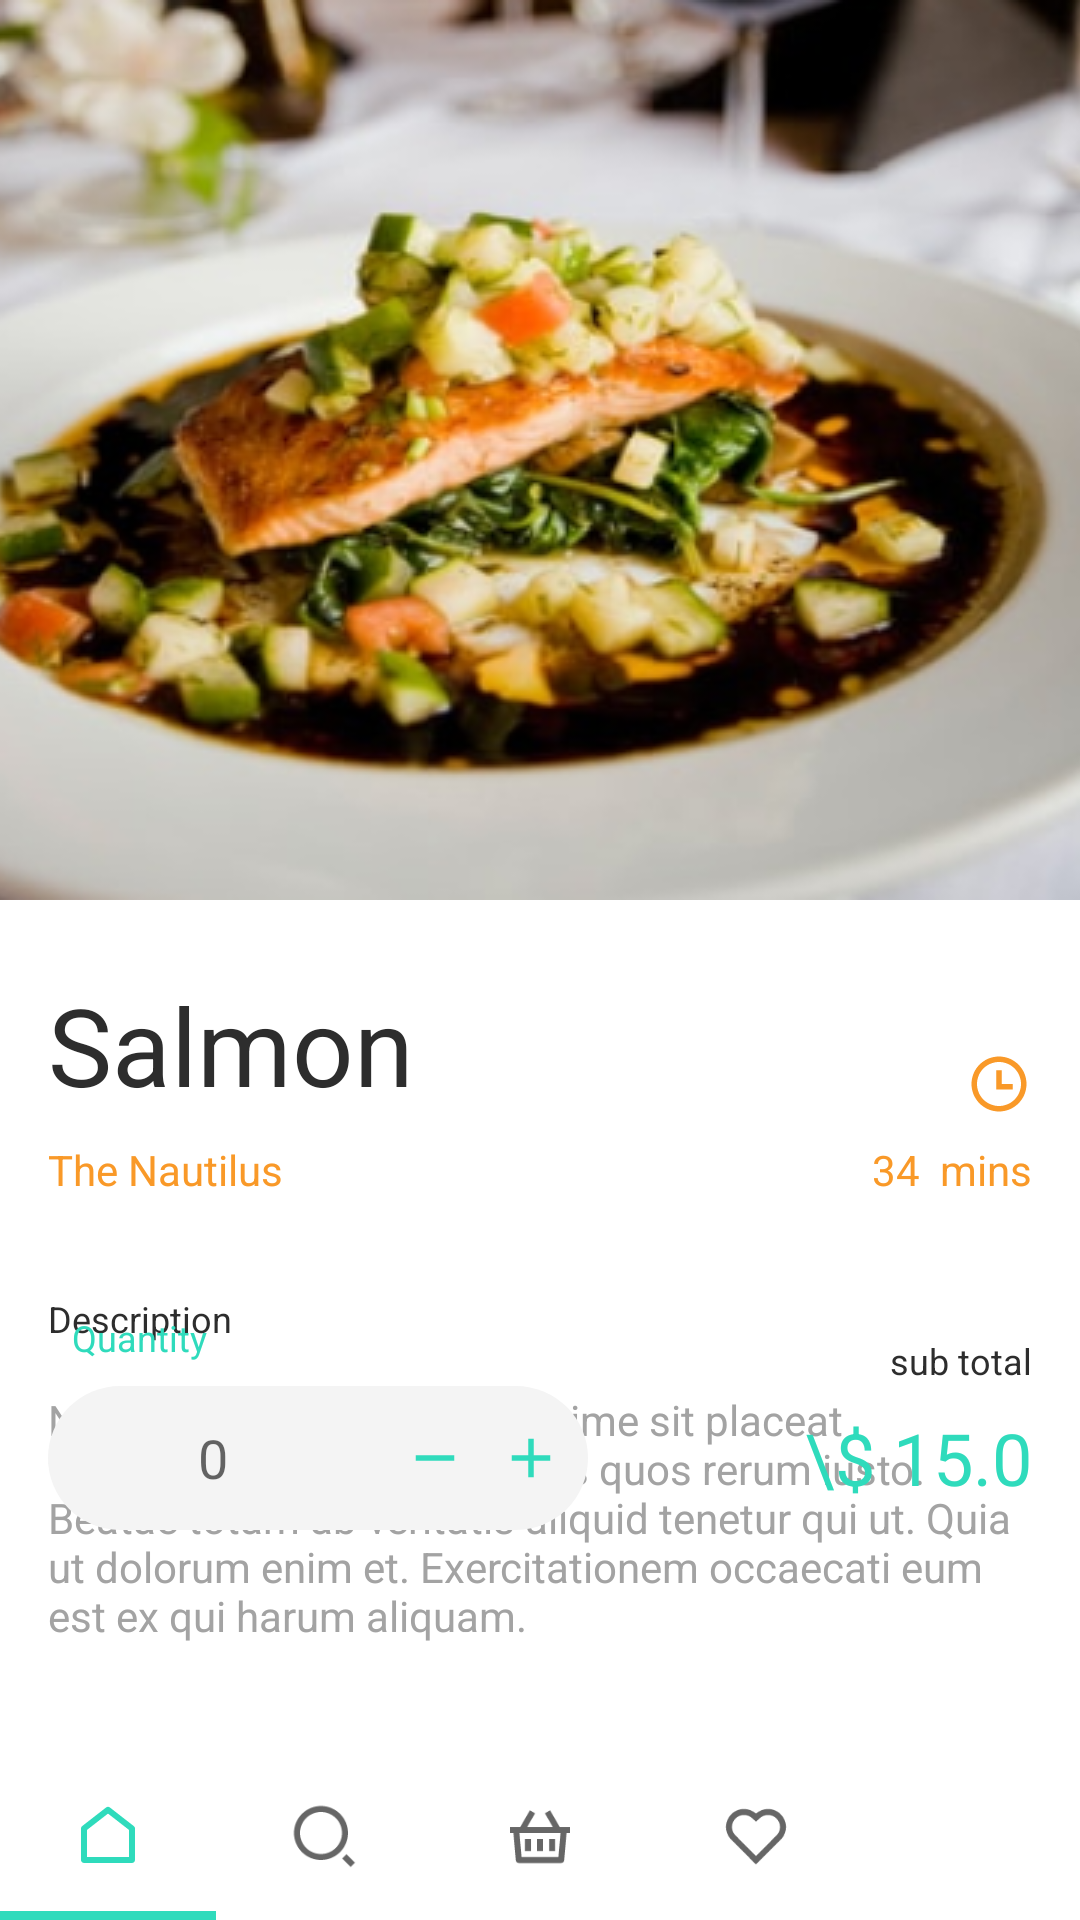

Icons on this 1080x1920 Android screen, each with its box as (x1, y1, x2, y2):
clock: (971, 1056, 1027, 1112)
